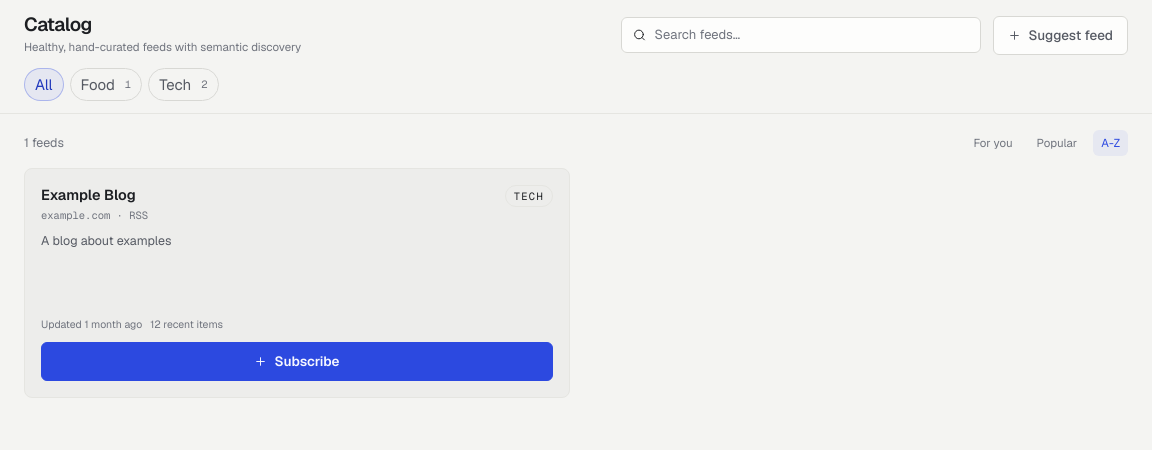
it: CatalogPage › shows an error when subscribing fails
This screenshot has width=1152, height=450.
Step 1. Click the button "Subscribe" → click(297, 361), box [41,342,553,381]
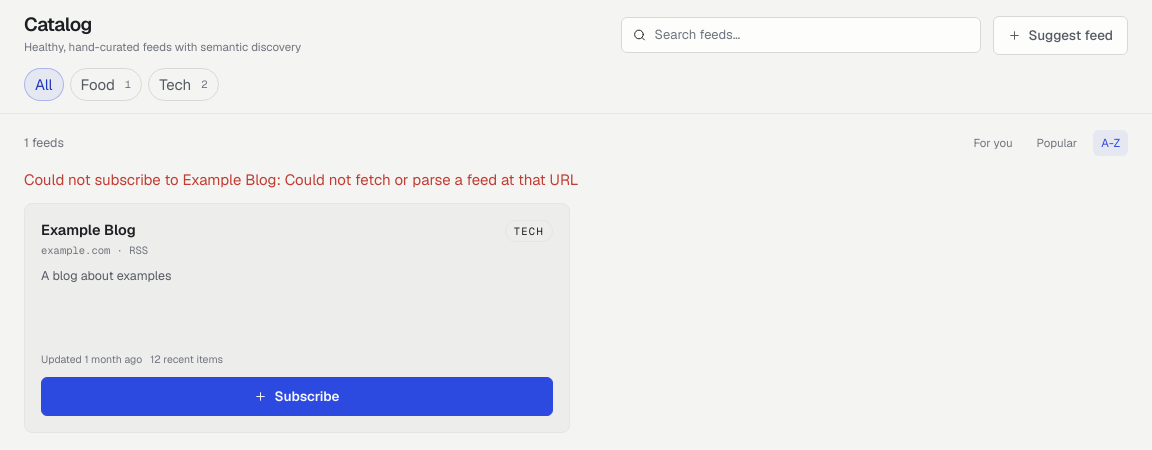
Result: the text "Could not subscribe to Example Blog: Could not fetch" is shown at [24,170,578,189]
